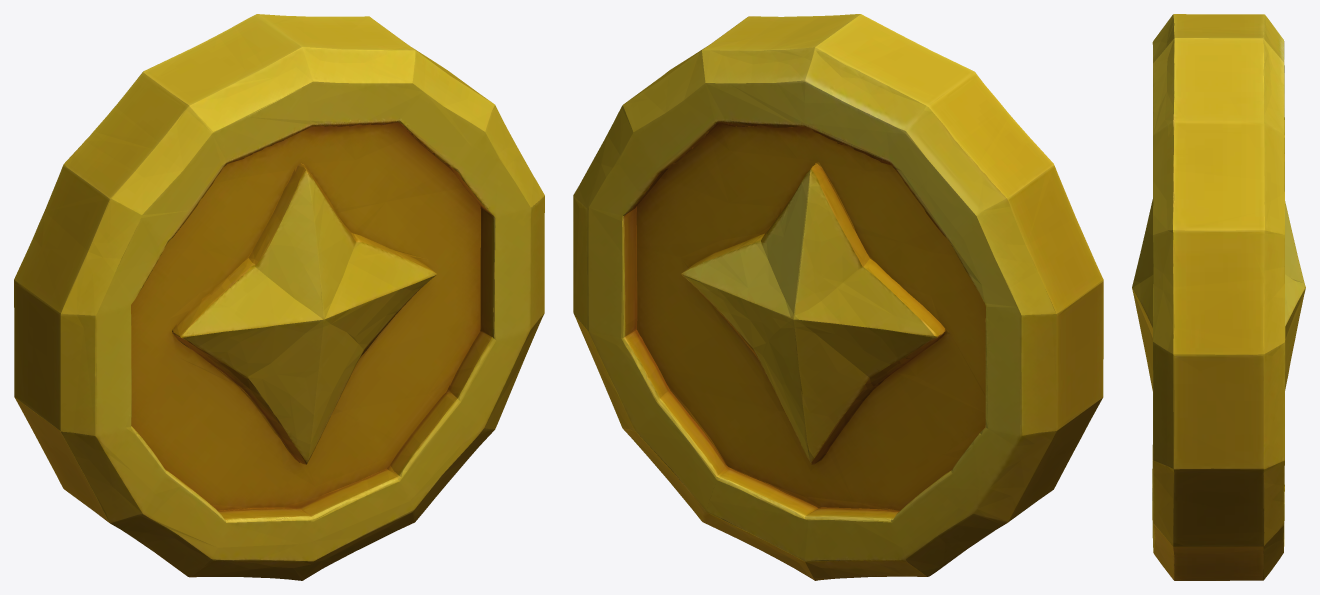
Rendered from coin.glb.
3 renders of one model, left to right at view 1: azimuth 30°, elevation 25°; view 2: azimuth 150°, elevation 25°; view 3: azimuth 270°, elevation 25°, orthographic. The views are drawn at different scales.
Parts seen in each view (by area): view 1: world; view 2: world; view 3: world.
Part boxes in pixels (x1=…): world: x1=14, y1=14, x2=544, y2=580; world: x1=573, y1=14, x2=1103, y2=580; world: x1=1132, y1=14, x2=1305, y2=580.
Size of the model in its own units: 0.9458 by 0.9952 by 0.3022.
1 material, 1 textured.
